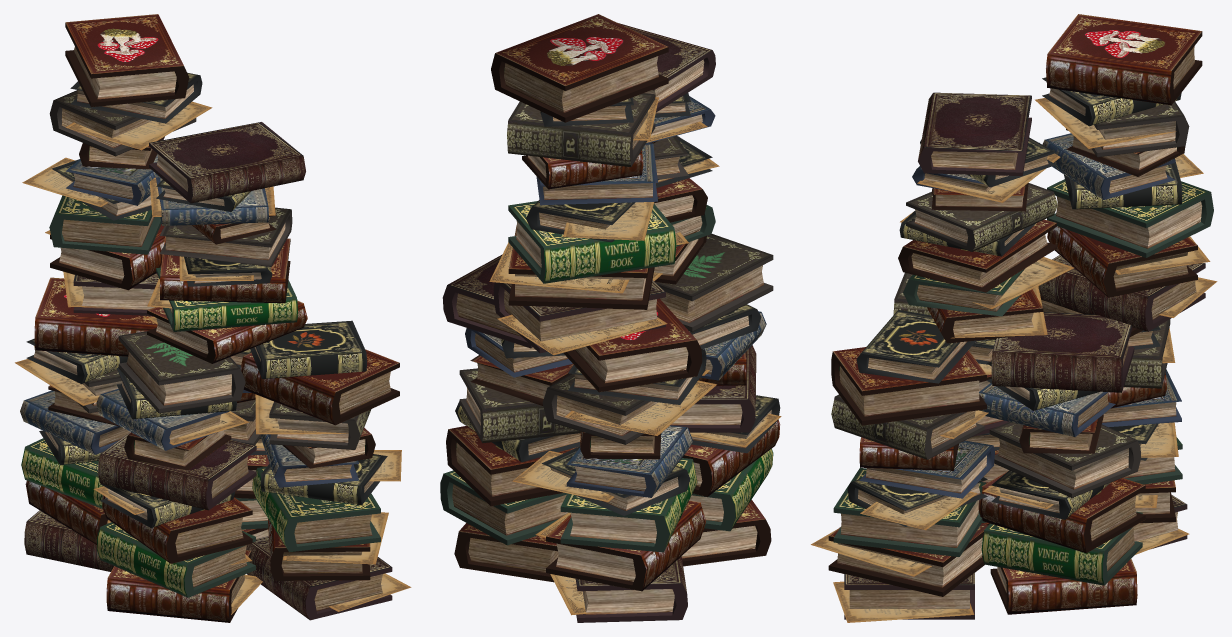
The model's file is Book_Mountain.fbx.
3 views of the same model, side by side, from view 1: azimuth 30°, elevation 25°; view 2: azimuth 150°, elevation 25°; view 3: azimuth 270°, elevation 25° (orthographic). The views are drawn at different scales.
Parts seen in each view (by area): view 1: Book_Mountain; view 2: Book_Mountain; view 3: Book_Mountain.
Boxes of the visible parts, left/top/right/bottom form: Book_Mountain: left=15, top=14, right=411, bottom=622; Book_Mountain: left=440, top=14, right=781, bottom=622; Book_Mountain: left=811, top=14, right=1217, bottom=622.
Size of the model in its own units: 171 by 285 by 206.
